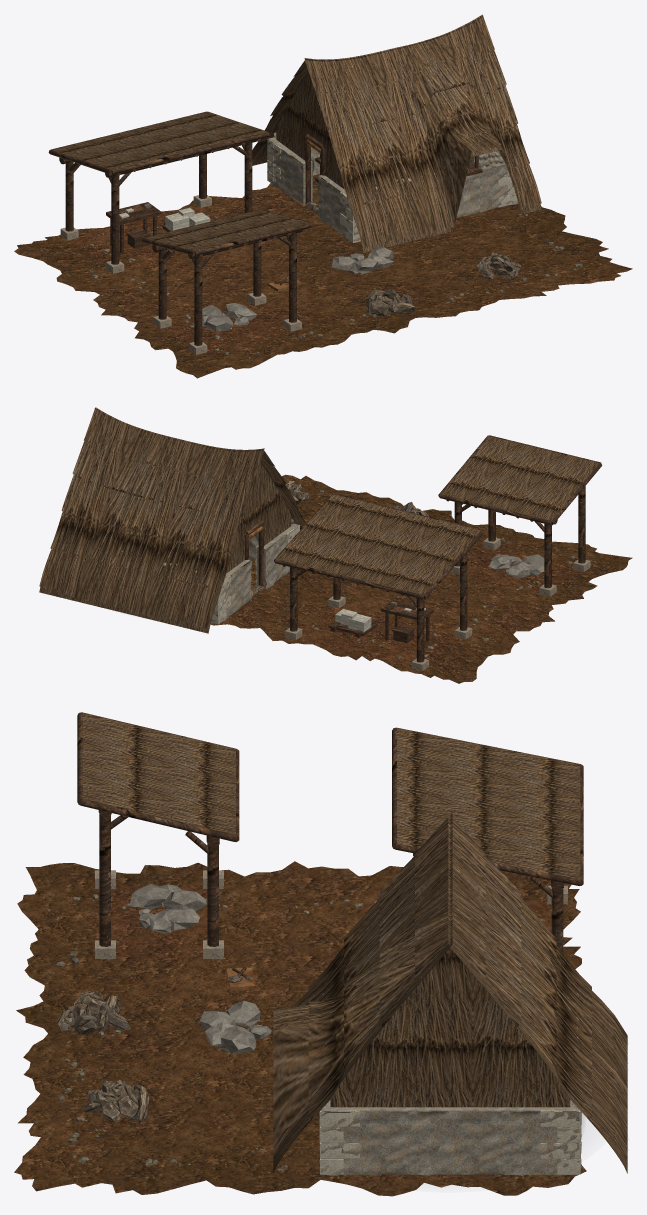
The model's file is mason.glb.
The picture shows the model from 3 angles, top to bottom: view 1: azimuth 30°, elevation 25°; view 2: azimuth 150°, elevation 25°; view 3: azimuth 270°, elevation 25°; orthographic projection. The views are drawn at different scales.
Parts seen in each view (by area): view 1: part_11, part_1, part_6, part_4, part_10, part_2, part_8, part_5, part_14; view 2: part_11, part_1, part_6, part_10, part_4, part_2, part_8, part_14, part_5; view 3: part_11, part_1, part_4, part_6, part_2, part_10, part_8, part_5.
Part boxes in pixels (x1,y1,x2,y2): part_11: (51,14,541,252); part_1: (14,183,632,378); part_6: (48,111,482,345); part_4: (60,132,518,354); part_10: (71,205,289,351); part_2: (88,213,582,358); part_8: (143,201,520,316); part_5: (267,138,517,243); part_14: (119,207,210,230); part_11: (39,407,598,633); part_1: (210,474,632,683); part_6: (243,435,602,662); part_10: (297,547,580,667); part_4: (99,519,590,670); part_2: (311,490,575,659); part_8: (251,481,428,606); part_14: (335,608,425,632); part_5: (211,525,299,624); part_11: (81,712,627,1173); part_1: (14,861,586,1196); part_4: (95,870,581,1175); part_6: (77,712,583,976); part_2: (46,884,544,1172); part_10: (111,885,551,957); part_8: (57,975,252,1122); part_5: (320,1110,580,1174).
Size of the model in its own units: 9.24 by 3.07 by 7.13.
Materials: 17 (13 with a texture image).
